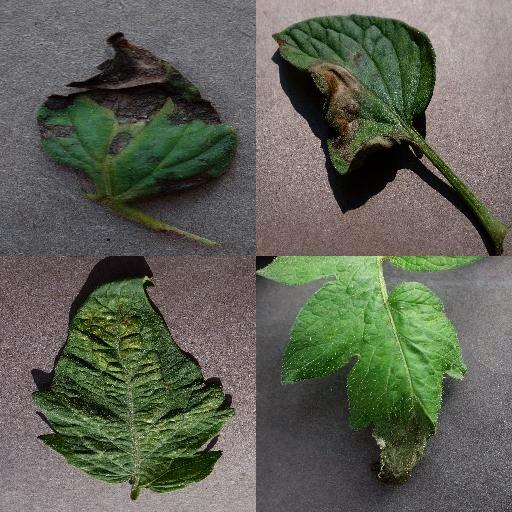Early Blight: (34, 30, 236, 206)
Late Blight: (256, 256, 466, 486), (273, 13, 435, 179)
Spider Mites: (30, 275, 234, 495)
